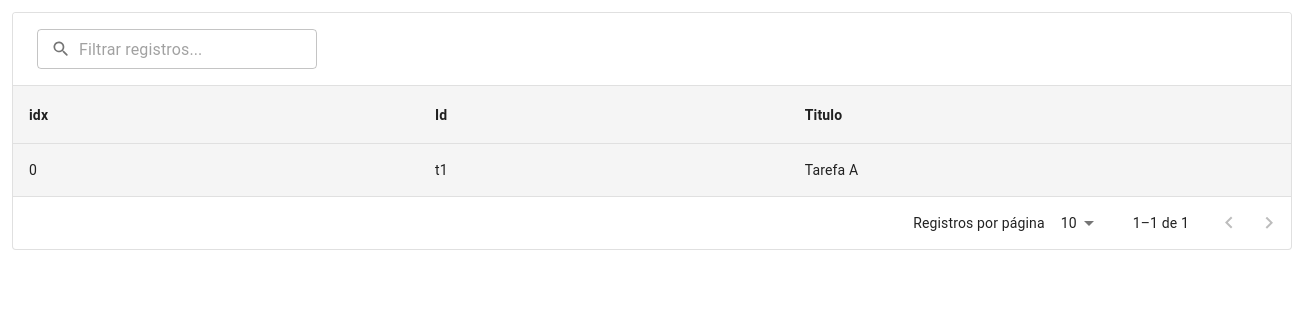
Scenario: ExternalScreen — master/detail (st-10) › exibe dados do detalhe no JsonGrid após carregar
Click the text "Tarefa A" at (1040, 171), box x1=789 y1=144 x2=1291 y2=197
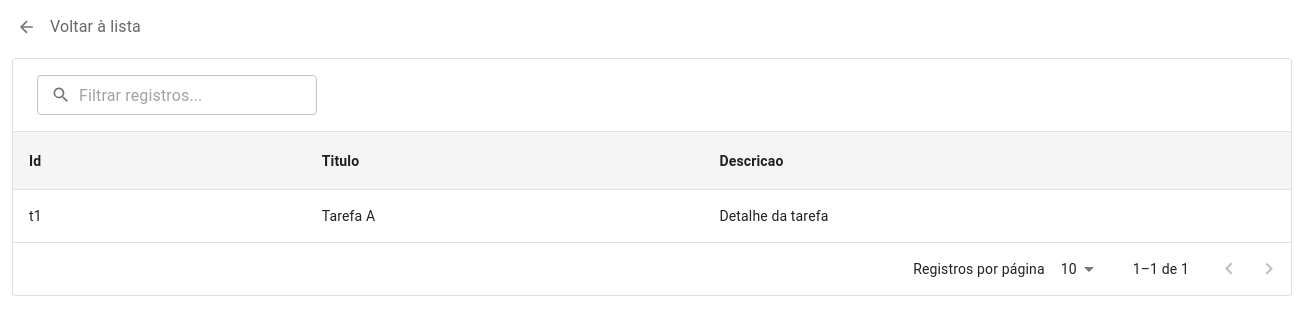
Result: the text "Detalhe da tarefa" is shown at x1=703 y1=190 x2=1291 y2=243
